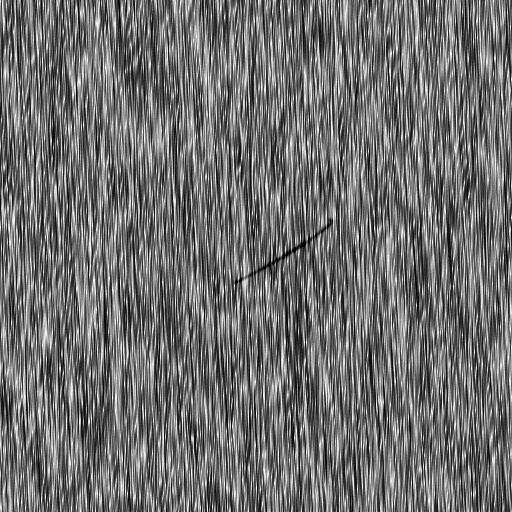DefectTypeC: (233, 220, 335, 279)
